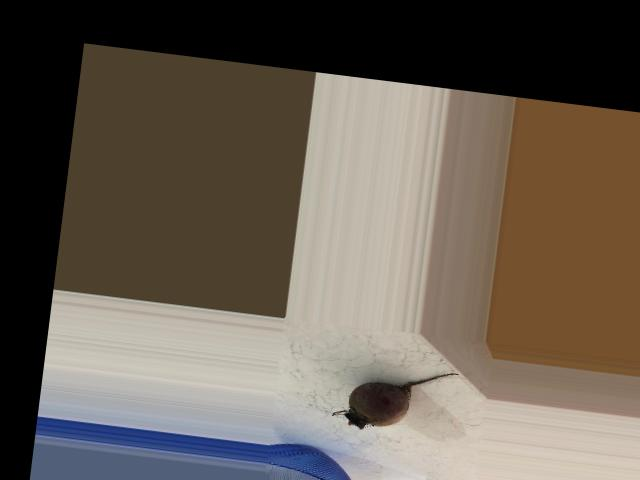beet: (331, 358, 458, 439)
